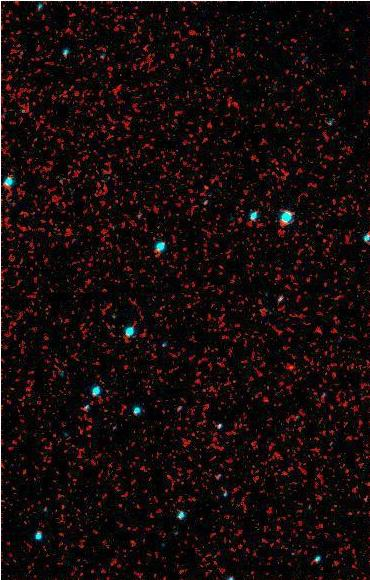star: (275, 351, 305, 381)
